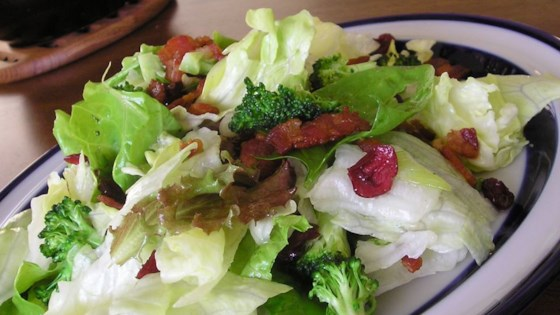chopped lettuce: (10, 76, 549, 308)
